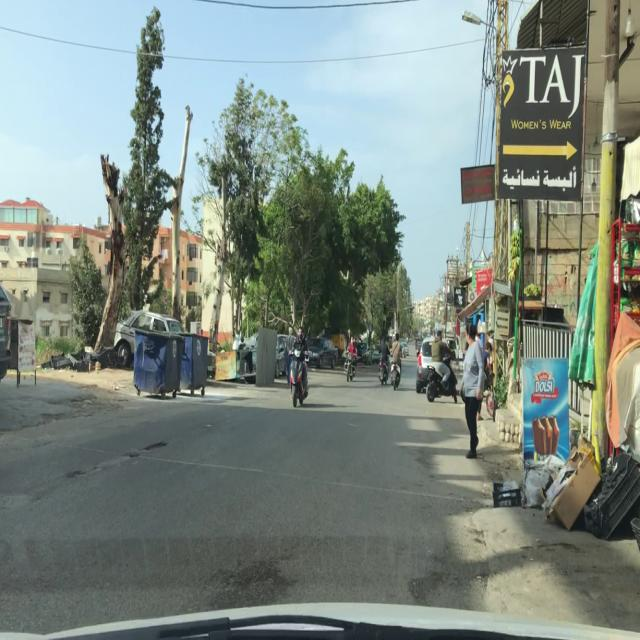Pothole: (142, 439, 168, 452)
